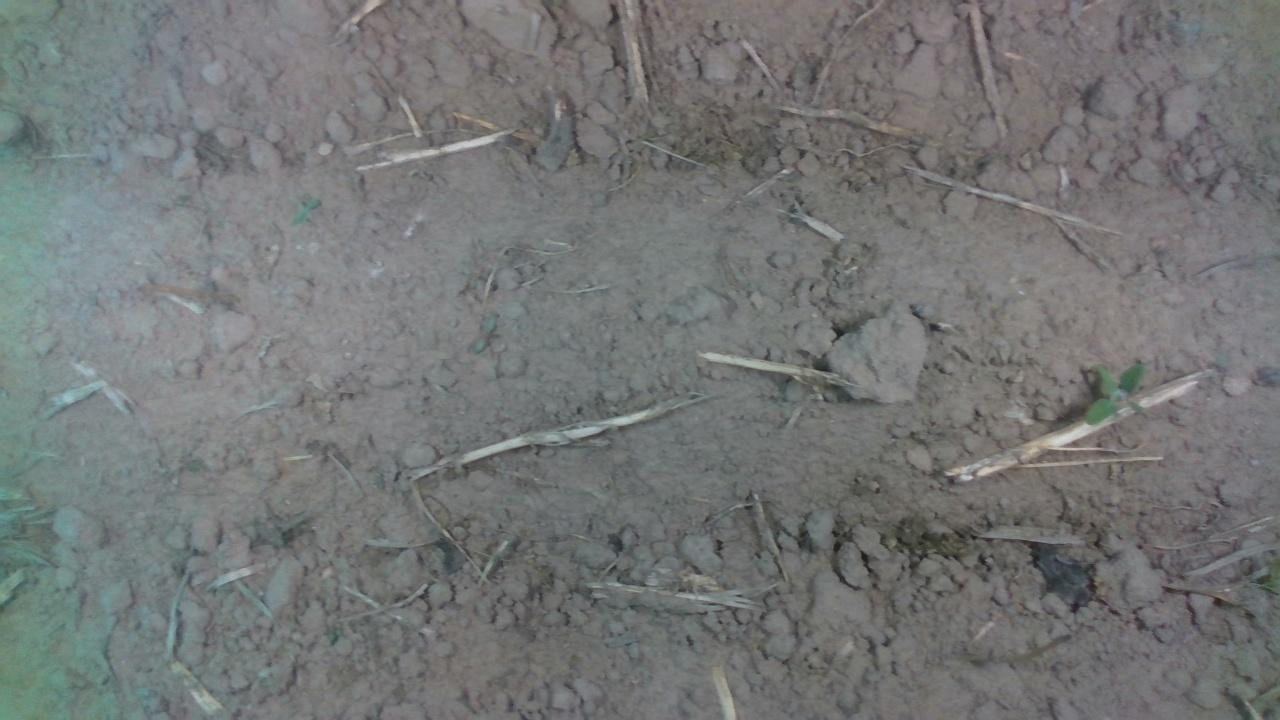weed: (1082, 359, 1149, 426)
